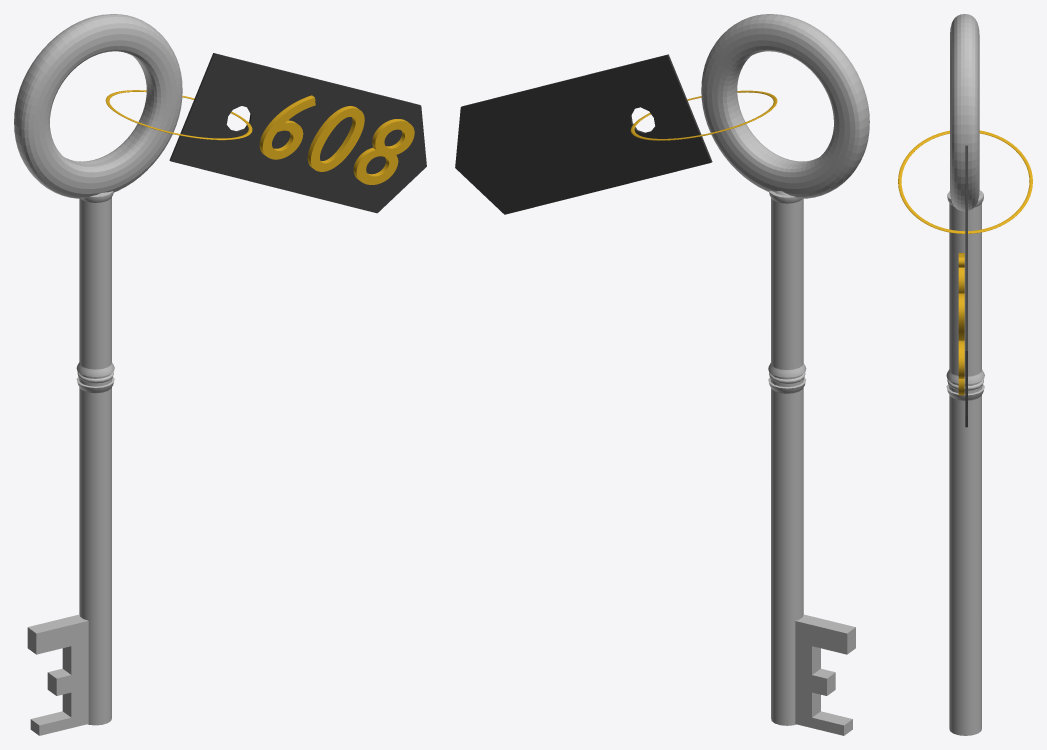
File: key608.fbx
The picture shows the model from 3 angles, left to right: view 1: azimuth 30°, elevation 25°; view 2: azimuth 150°, elevation 25°; view 3: azimuth 270°, elevation 25°; orthographic projection.
Parts seen in each view (by area): view 1: key608; view 2: key608; view 3: key608.
Part boxes in pixels (left/top/right/bottom): key608: left=14, top=14, right=426, bottom=735; key608: left=455, top=14, right=869, bottom=735; key608: left=898, top=14, right=1032, bottom=735.
Size of the model in its own units: 8.68 by 14.18 by 2.45.
